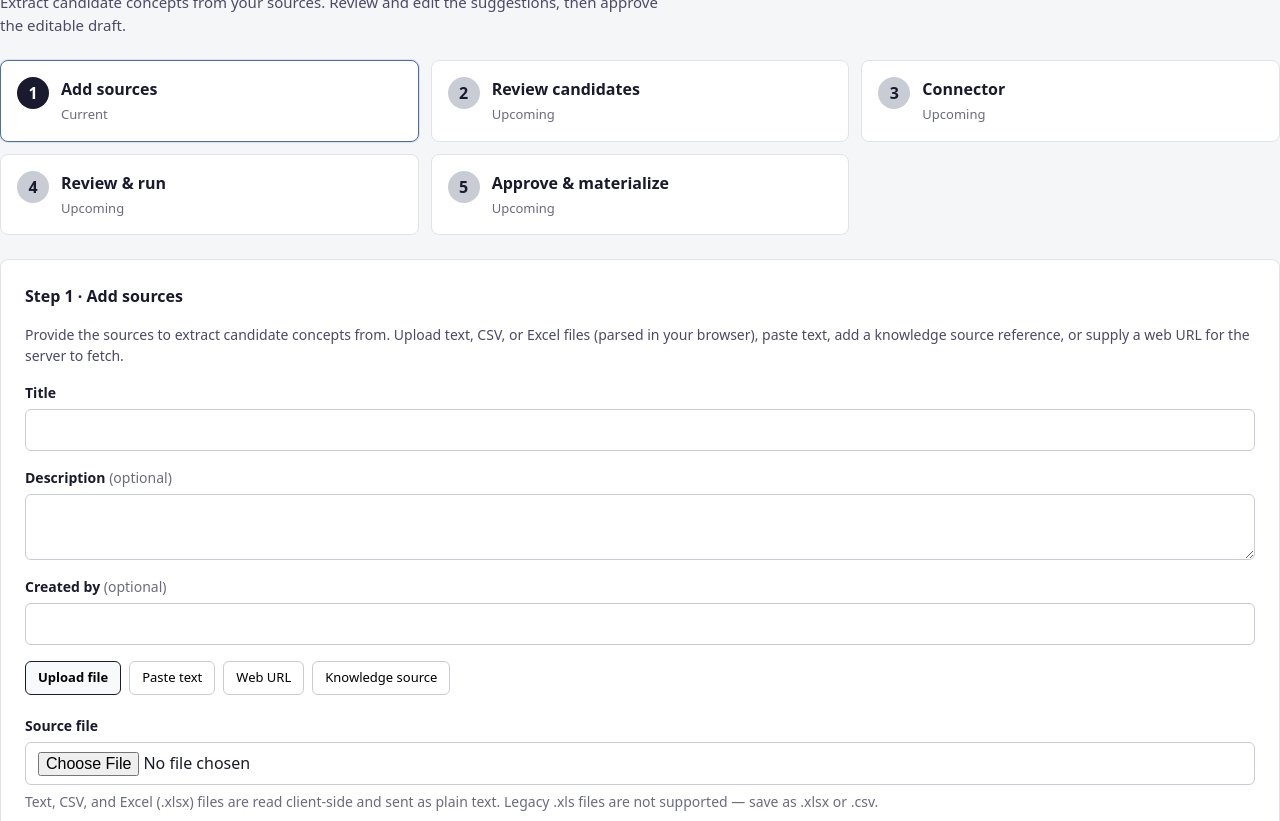
Test: OntologyStudioPage · Generate from Sources › surfaces API 422 errors from generateOntology
The image size is (1280, 821).
Expected: the heading "Step 1 · Add sources" is shown, [25, 285, 183, 307]
In the field labelled "Title": (640, 430) [25, 409, 1255, 451], type "Vendor Ontology"
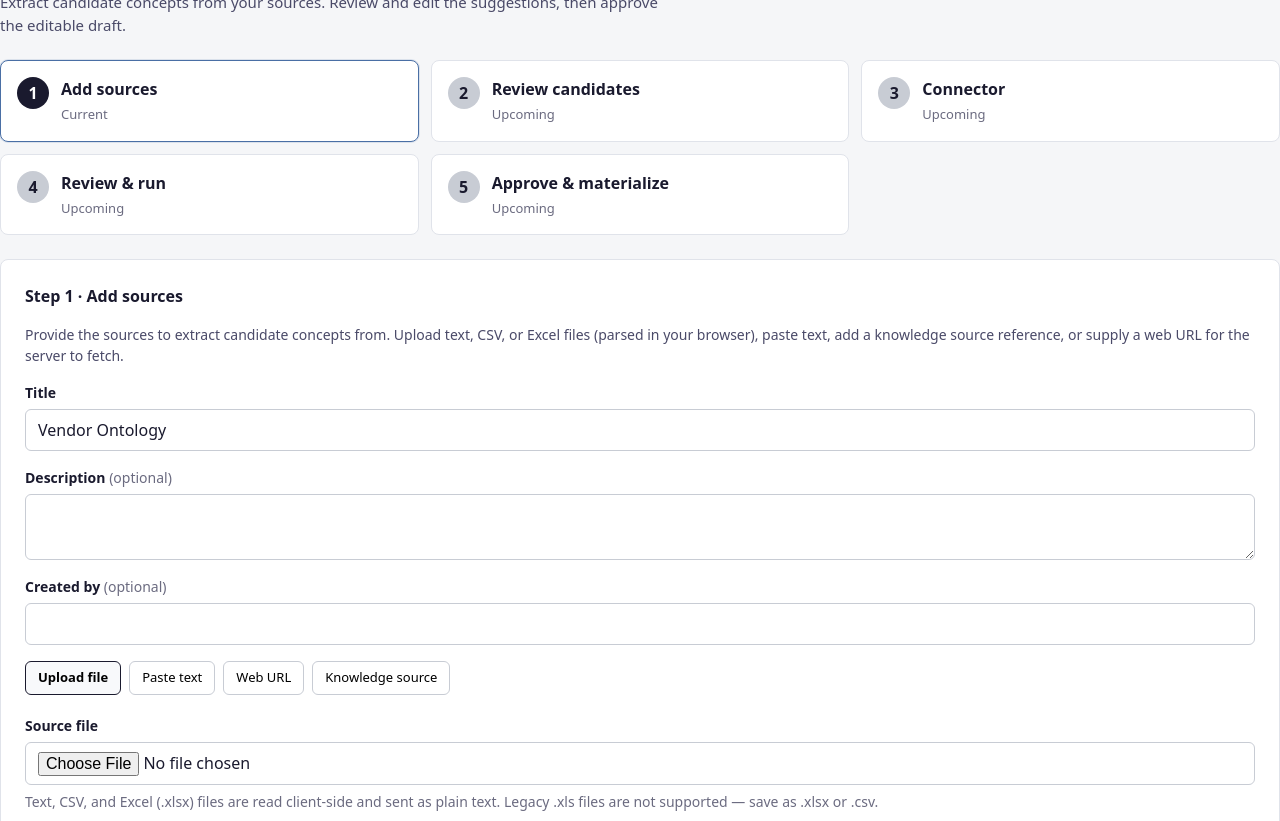
Click the tab "Paste text": (172, 678) [129, 661, 215, 694]
(page scrolled)
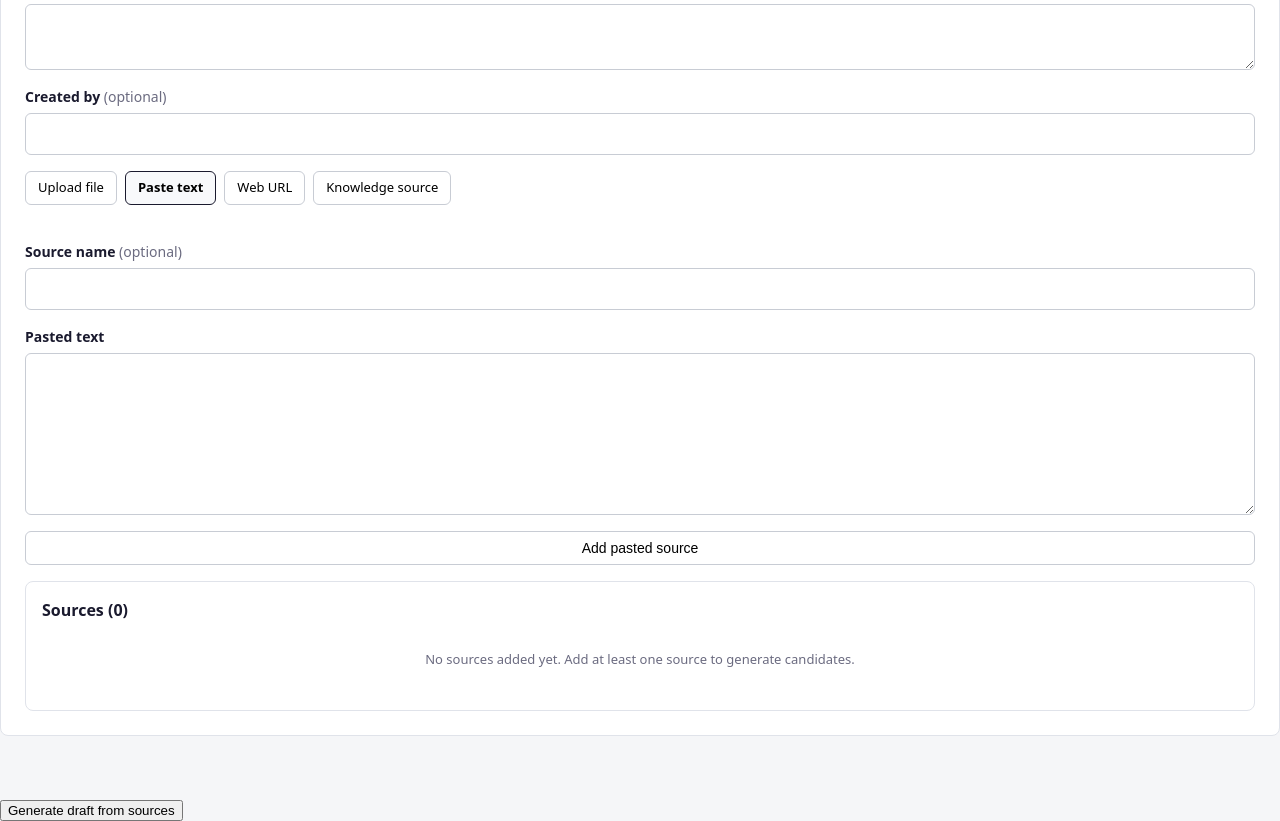
In the text box labelled "Pasted text": (640, 434) [25, 352, 1255, 514], type "vendors supply goods to customers"
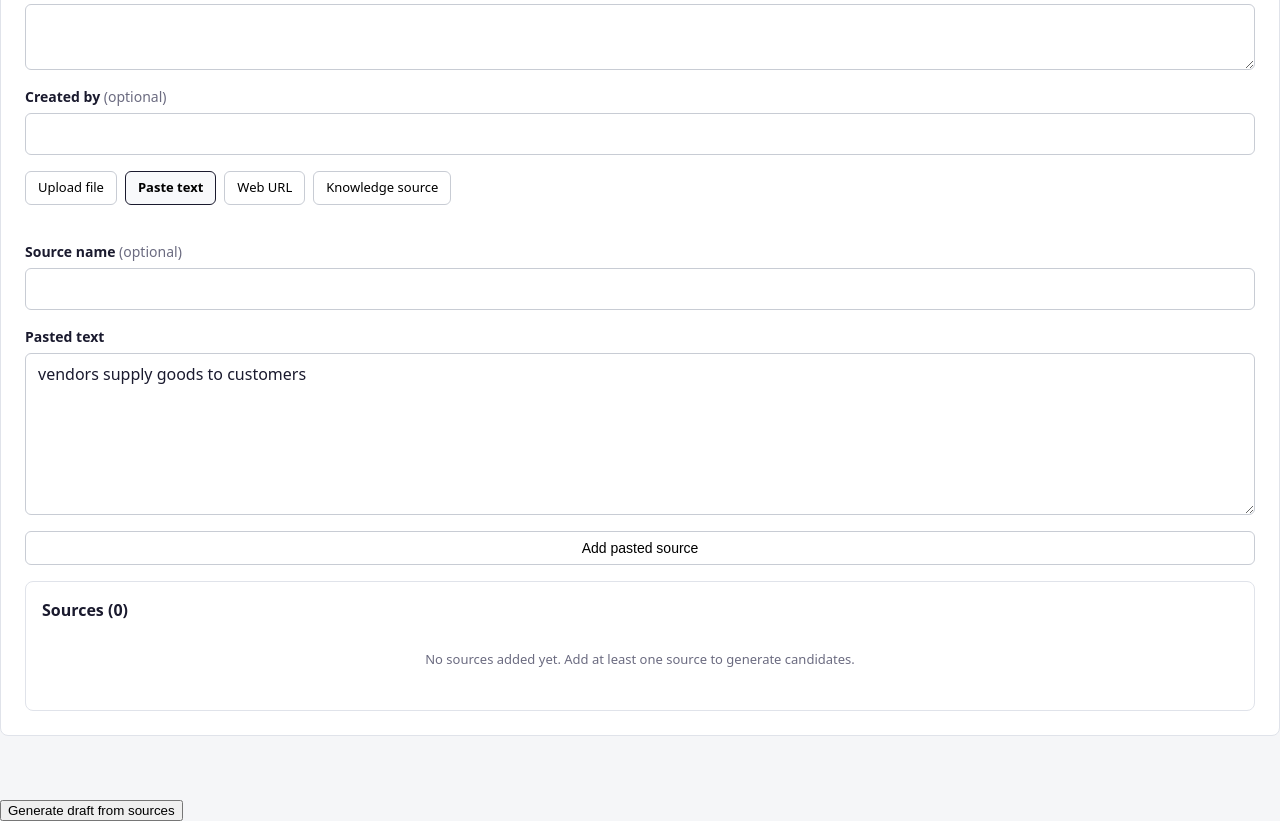
Click the button "Add pasted source": (640, 548) [25, 530, 1255, 564]
(page scrolled)
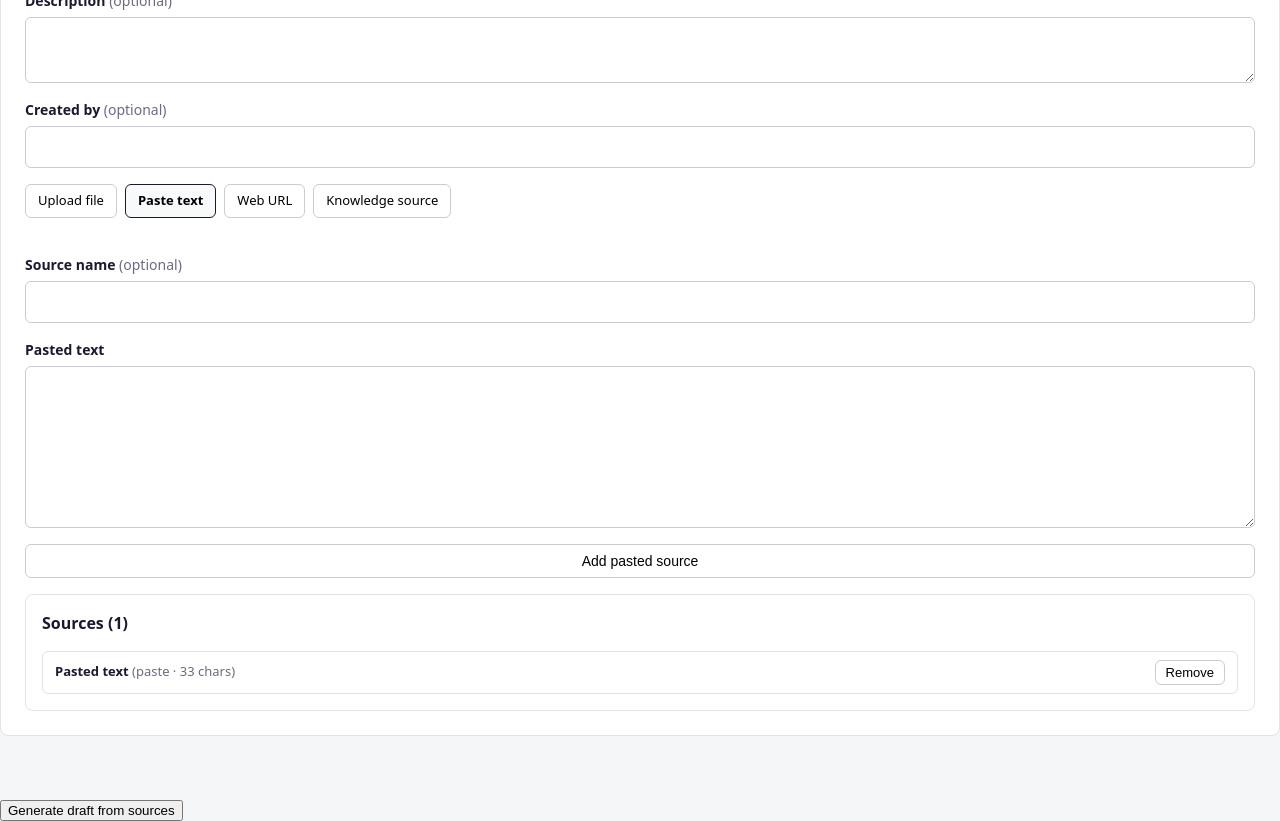
Click the button "Generate draft from sources": (91, 810) [0, 800, 183, 820]
(page scrolled)
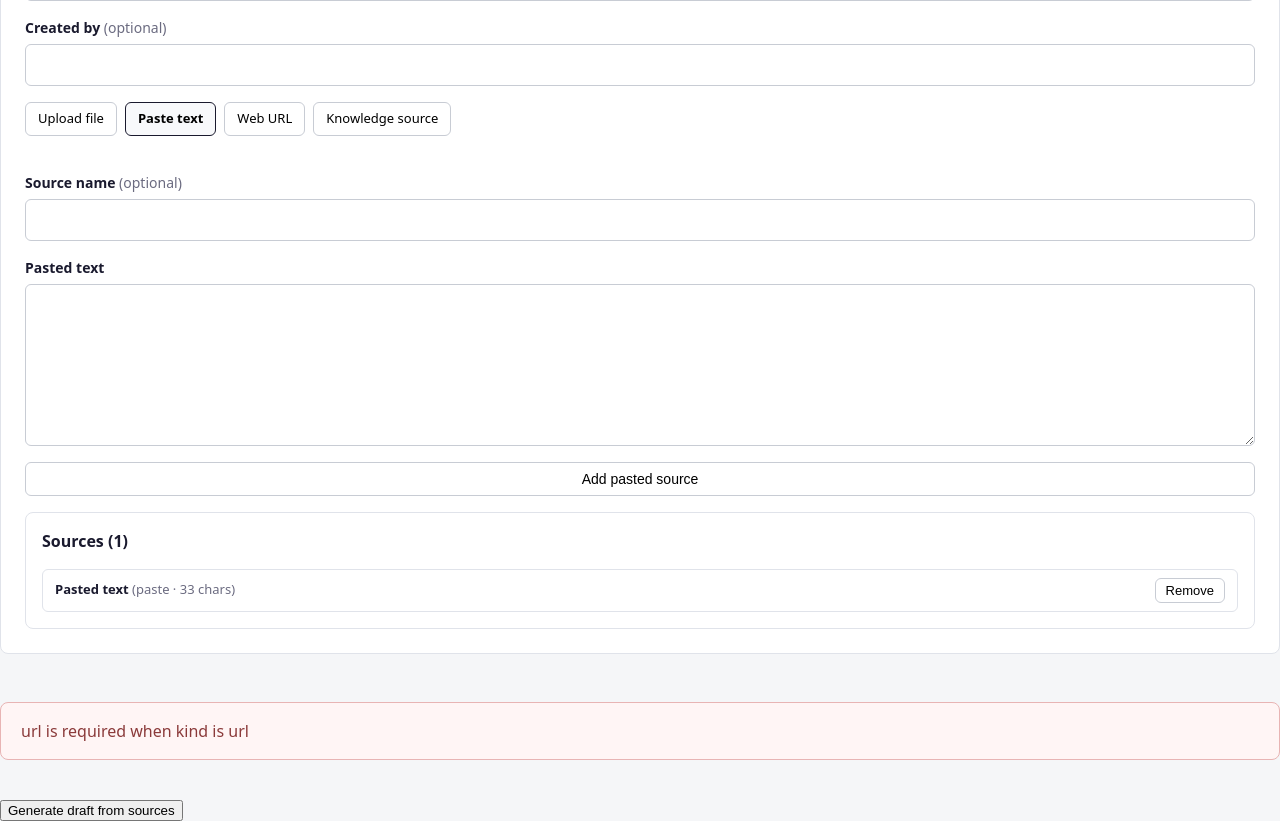
Expected: the text "url is required when kind is url" is shown, [0, 702, 1279, 760]
